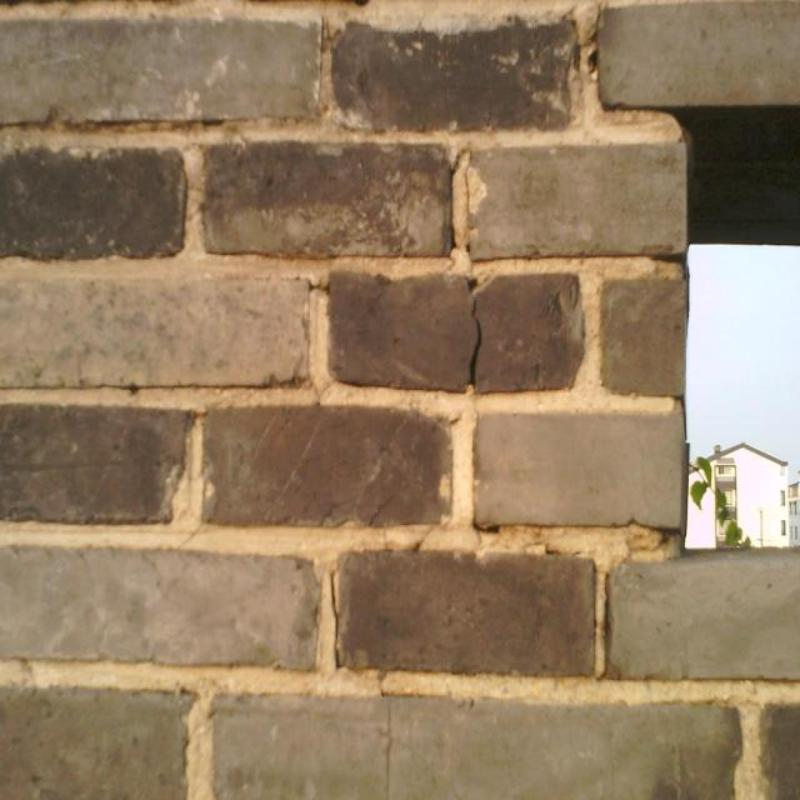pothole: (466, 296, 482, 388), (331, 573, 343, 668), (386, 702, 394, 795), (450, 146, 469, 174), (590, 51, 599, 71)
